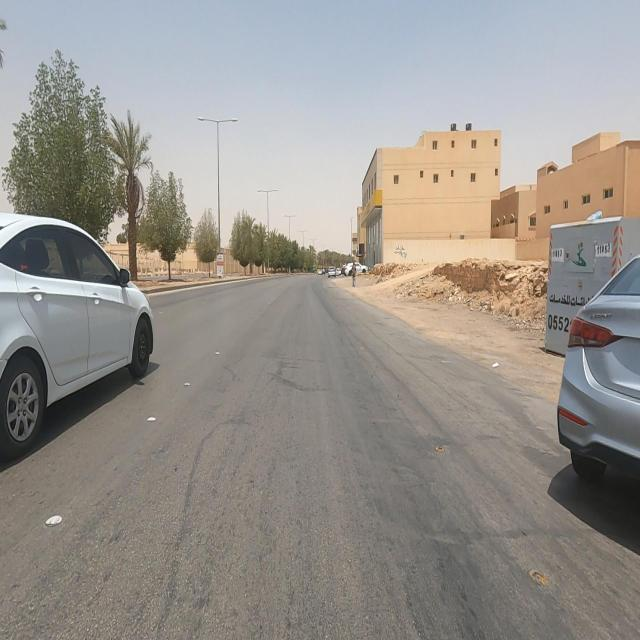Graffiti: (394, 244, 408, 258)
